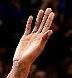down: (14, 6, 56, 66)
